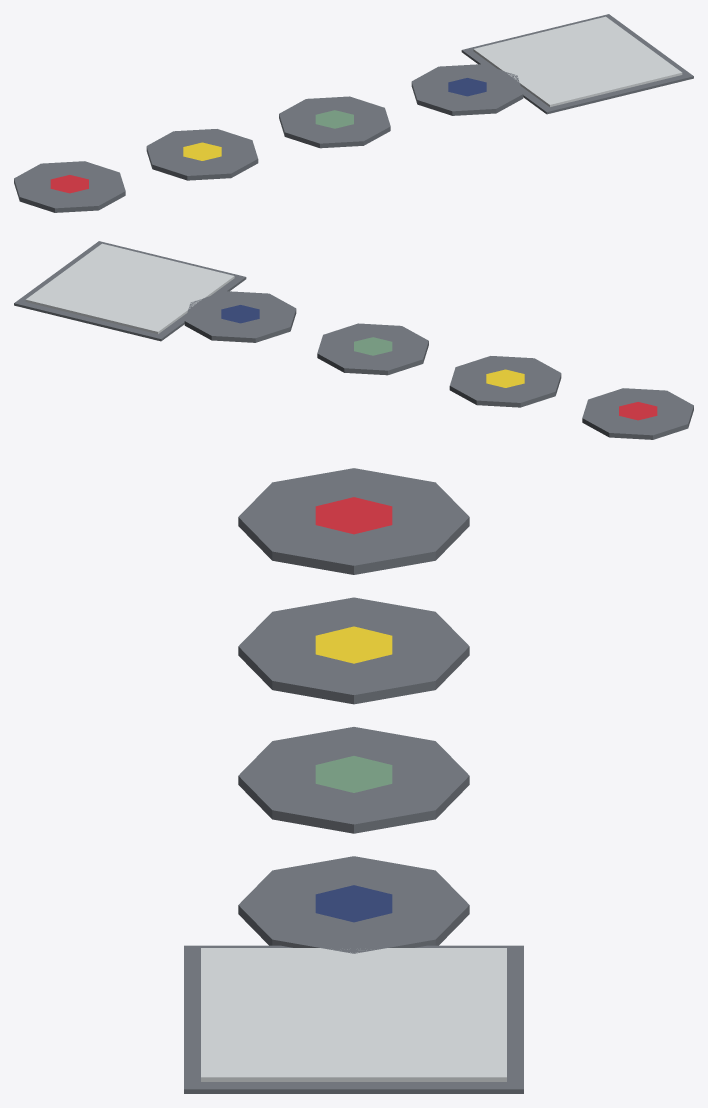
File: site_fill.fbx
3 renders of one model, top to bottom at view 1: azimuth 30°, elevation 25°; view 2: azimuth 150°, elevation 25°; view 3: azimuth 270°, elevation 25°, orthographic. The views are drawn at different scales.
Visible parts, largest first — view 1: a1019/0/site_fill; view 2: a1019/0/site_fill; view 3: a1019/0/site_fill.
Part boxes in pixels (left/top/right/bottom): a1019/0/site_fill: left=14, top=14, right=693, bottom=212; a1019/0/site_fill: left=14, top=241, right=693, bottom=439; a1019/0/site_fill: left=184, top=468, right=523, bottom=1093.
Size of the model in its own units: 4.29 by 0.034 by 1.
